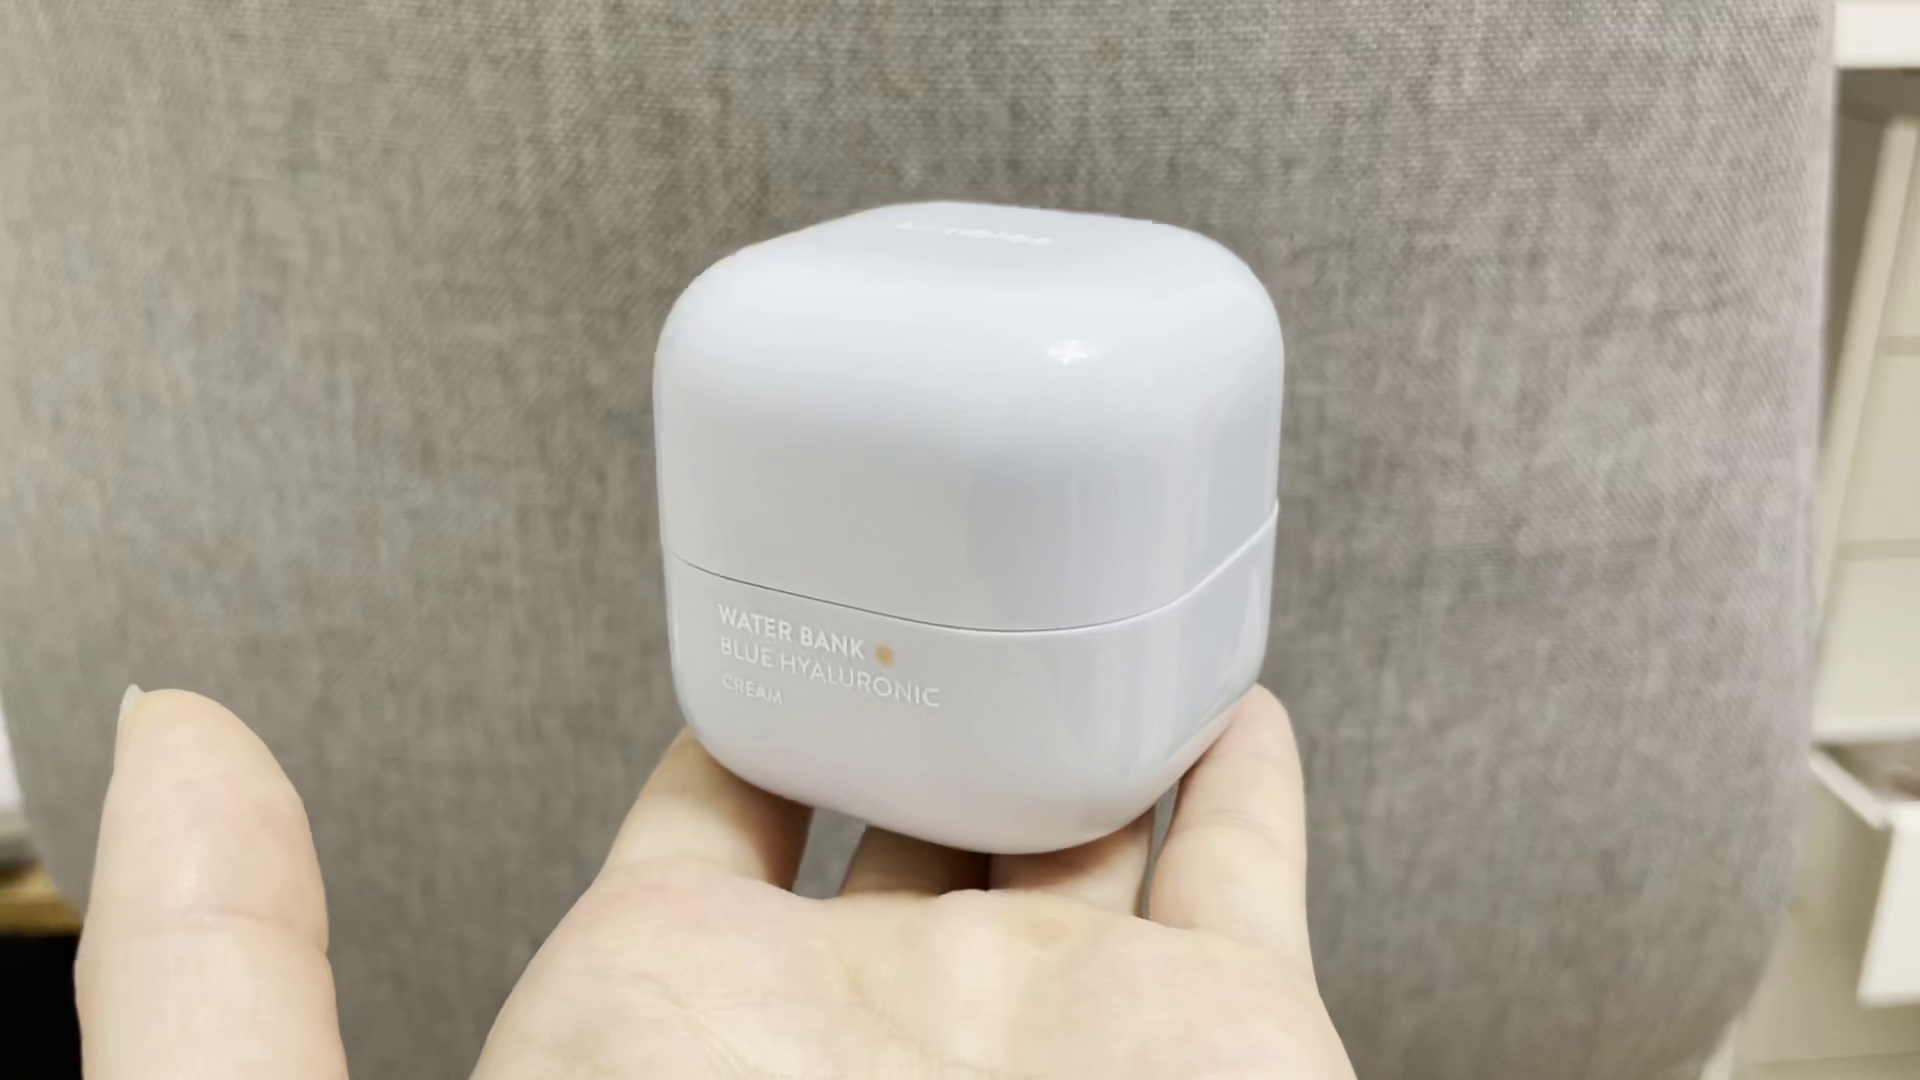cream: (650, 204, 1284, 852)
